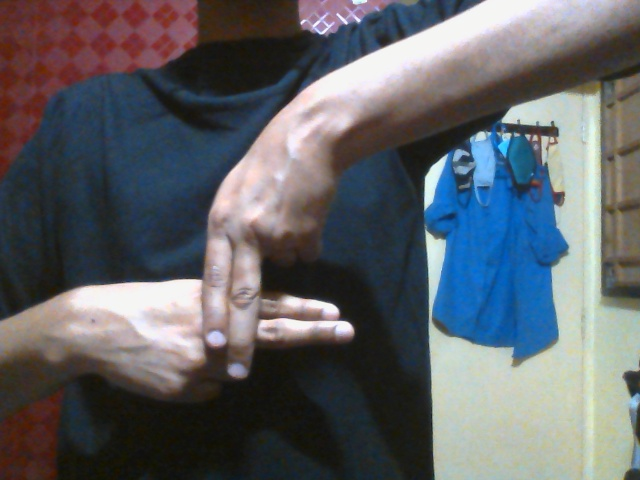F: (87, 138, 355, 409)
